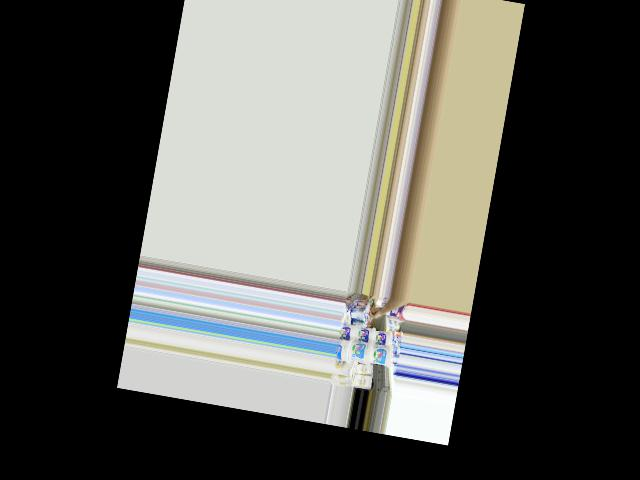cotage: (352, 325, 375, 345)
